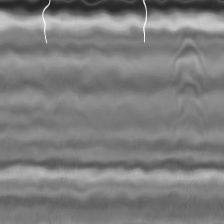Utility: (174, 33, 207, 119)
